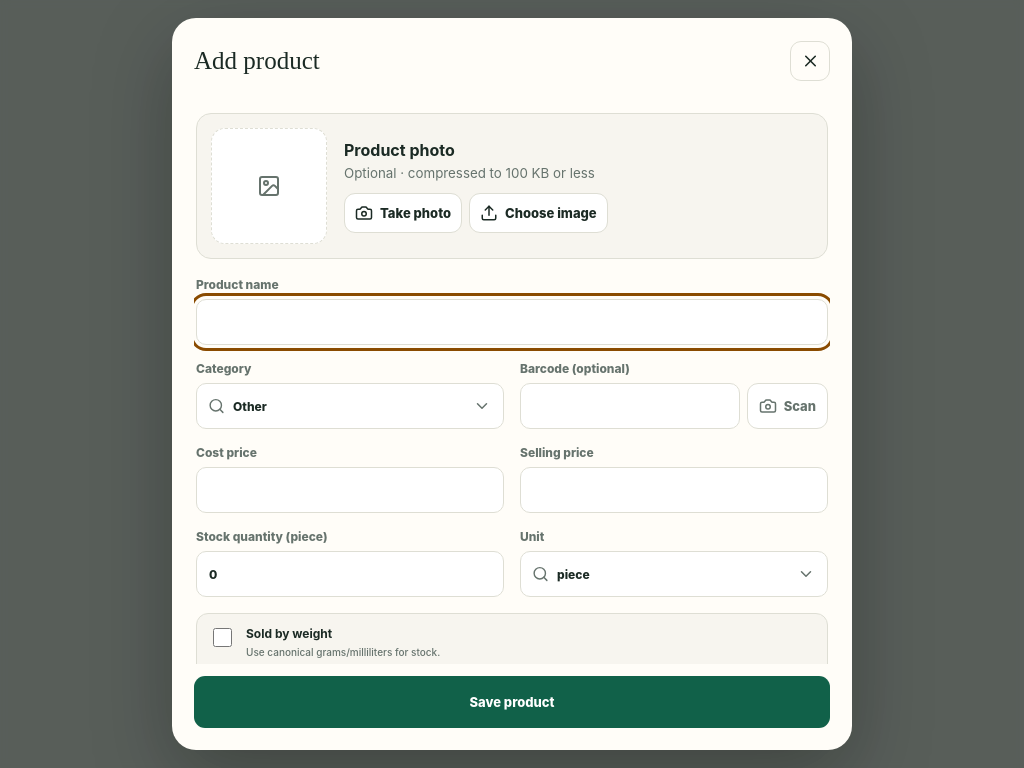
Utang search and app modal improvements › configures weighted products with decimal stock and quantity steps
What coordinates should you click on to do the following:
click the checkbox labelled "Sold by weight Use canonical grams/milliliters for stock."
I would click on:
 (222, 638)
Its box is top-left (213, 628), bottom-right (232, 647).
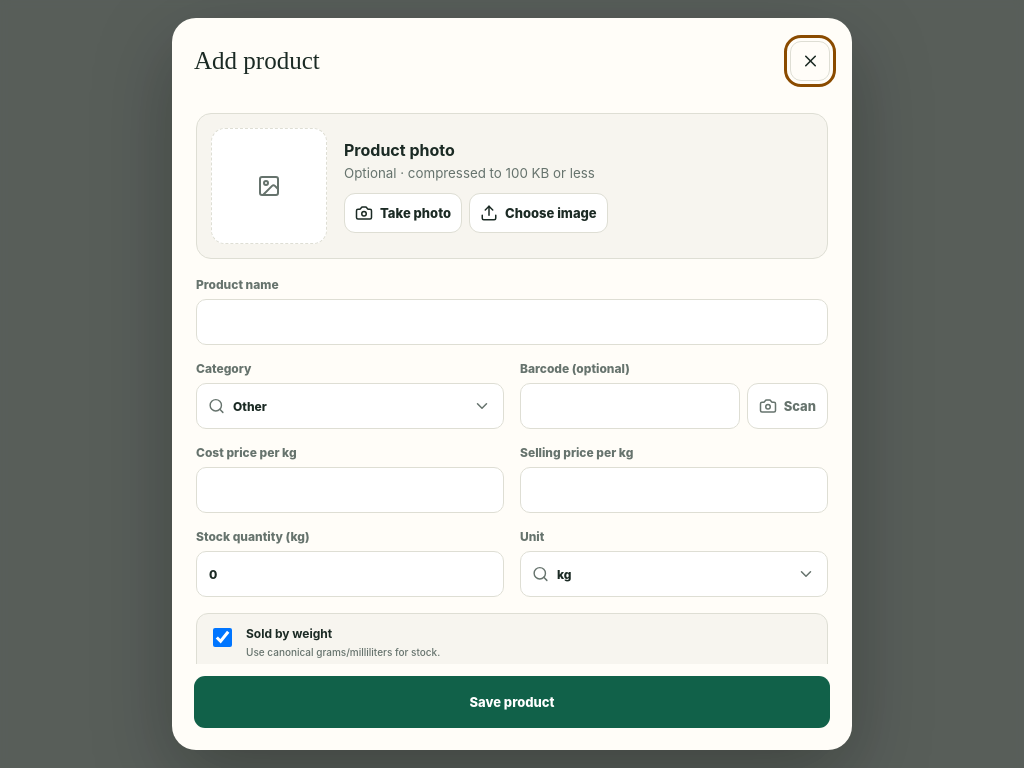
Check: the number field labelled "Selling price per kg" is shown, box top-left (520, 467), bottom-right (828, 513)
Check: the dropdown labelled "Unit" holds "kg", box top-left (557, 552), bottom-right (777, 596)
